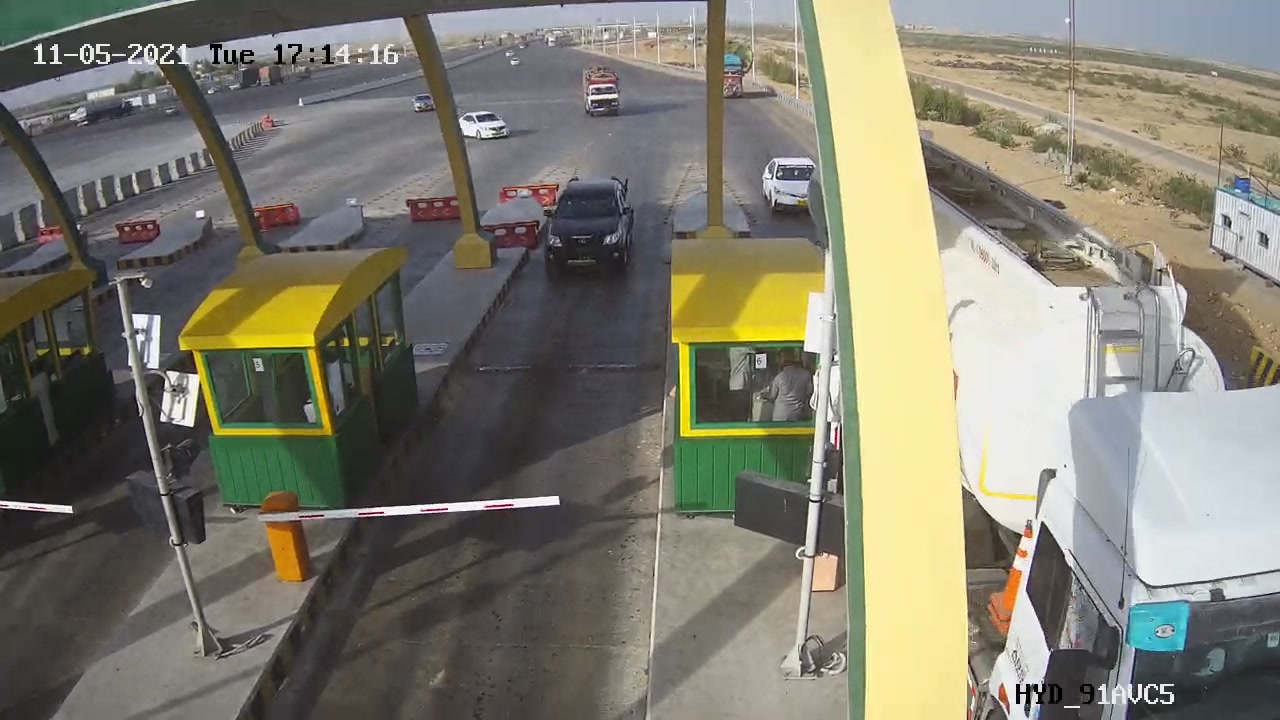F1: (526, 164, 656, 287)
